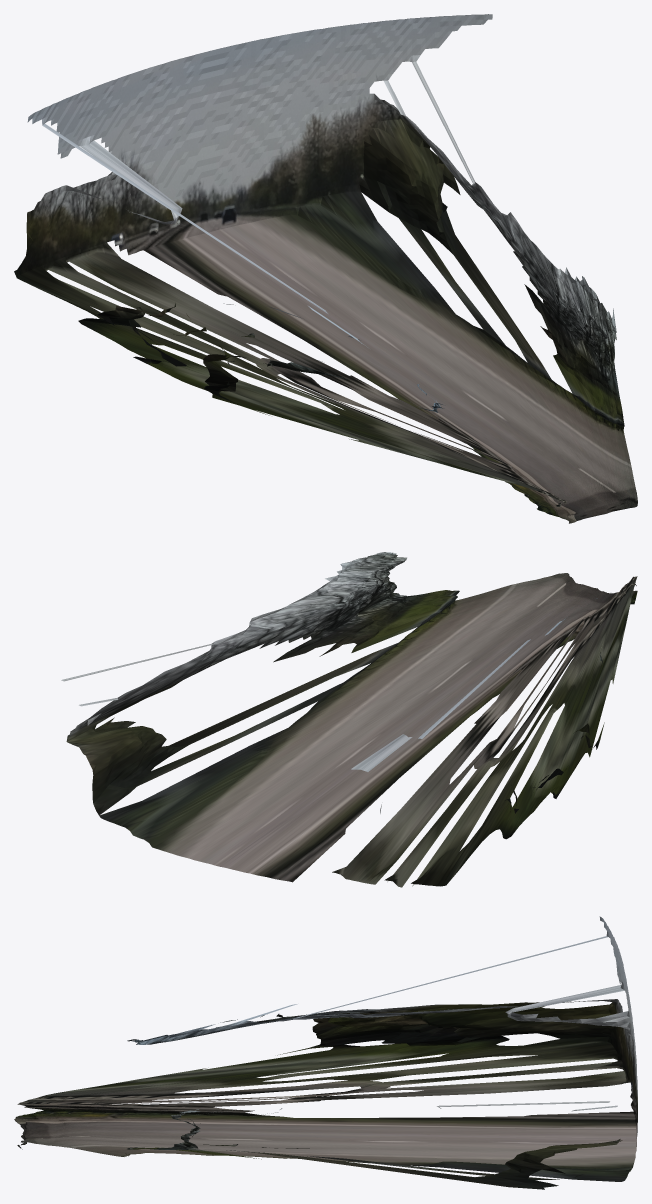
3 renders of one model, top to bottom at view 1: azimuth 30°, elevation 25°; view 2: azimuth 150°, elevation 25°; view 3: azimuth 270°, elevation 25°, orthographic. The views are drawn at different scales.
Visible parts, largest first — view 1: defaultobject; view 2: defaultobject; view 3: defaultobject.
Part boxes in pixels (<box>): defaultobject: <box>14,14,637,523</box>; defaultobject: <box>61,552,637,887</box>; defaultobject: <box>14,916,637,1189</box>.
Size of the model in its own units: 30.34 by 11.82 by 44.84.
1 material, 1 textured.
